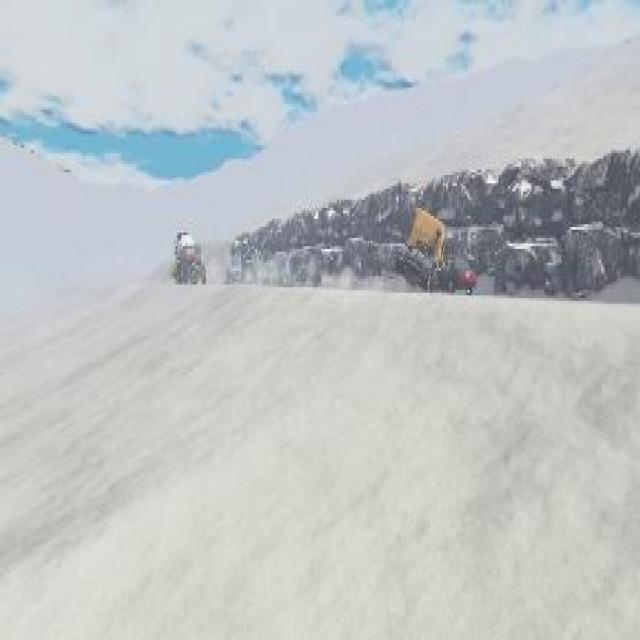accident: (388, 197, 478, 293)
